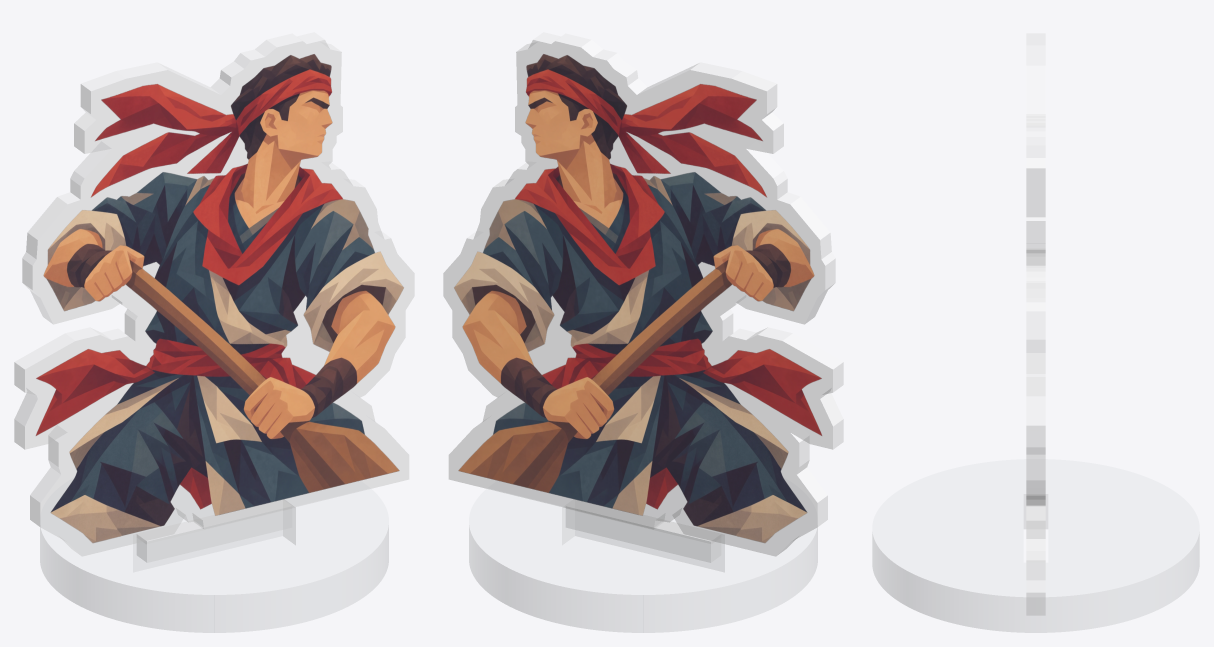
The model's file is thuyen-nhe-C6Y_54KI.glb.
The picture shows the model from 3 angles, left to right: view 1: azimuth 30°, elevation 25°; view 2: azimuth 150°, elevation 25°; view 3: azimuth 270°, elevation 25°; orthographic projection. The views are drawn at different scales.
Visible parts, largest first — view 1: ArtworkFront, AcrylicSilhouette, RoundBaseWithSlot, InsertTab; view 2: ArtworkBack, AcrylicSilhouette, RoundBaseWithSlot, InsertTab; view 3: RoundBaseWithSlot, AcrylicSilhouette, InsertTab.
Boxes of the visible parts, box(x1,y1,x2,y2) form: ArtworkFront: box(35, 54, 403, 542); AcrylicSilhouette: box(14, 32, 414, 556); RoundBaseWithSlot: box(40, 478, 388, 632); InsertTab: box(137, 500, 291, 562); ArtworkBack: box(454, 54, 822, 542); AcrylicSilhouette: box(443, 32, 843, 556); RoundBaseWithSlot: box(469, 478, 817, 632); InsertTab: box(566, 500, 720, 562); RoundBaseWithSlot: box(872, 459, 1199, 632); AcrylicSilhouette: box(1026, 33, 1045, 615); InsertTab: box(1026, 494, 1045, 579).
Bounding box in the file's own units: 32.22 × 40.06 × 25.
5 materials, 2 textured.
